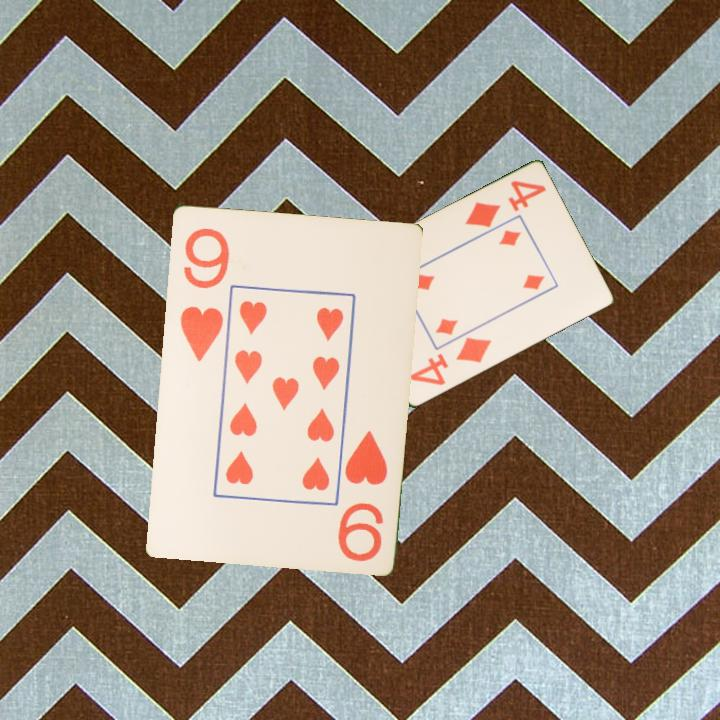4d: (406, 334, 494, 389), (461, 177, 549, 231)
9h: (176, 223, 231, 364), (334, 426, 390, 564)
